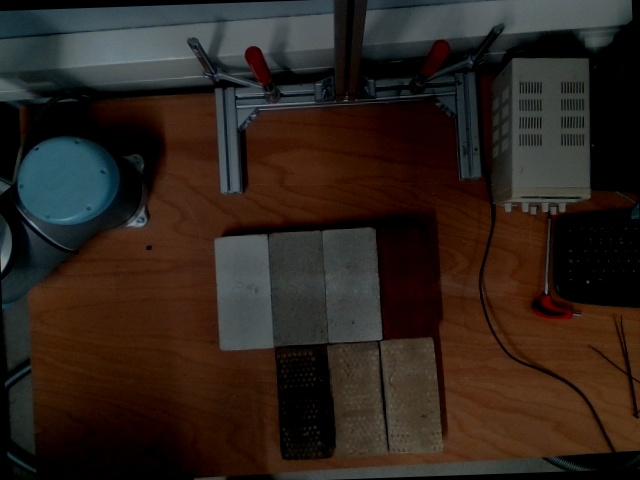brick: (382, 338, 440, 452), (324, 229, 381, 342), (270, 233, 326, 345), (380, 228, 437, 334), (277, 348, 332, 457), (331, 346, 383, 455), (217, 240, 269, 346)
